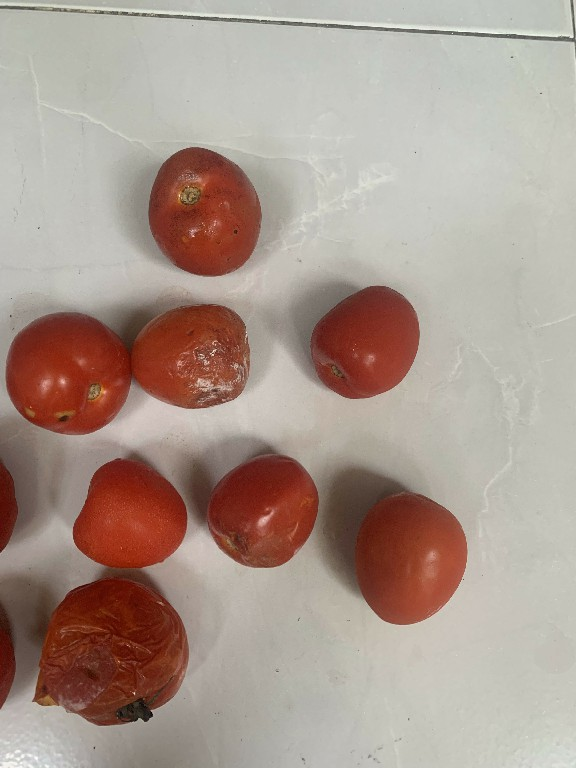NG: (31, 574, 192, 729), (3, 304, 125, 436), (124, 300, 253, 412), (205, 452, 317, 570)
OK: (142, 141, 266, 280), (349, 488, 470, 626), (64, 457, 200, 572), (308, 283, 424, 403)
